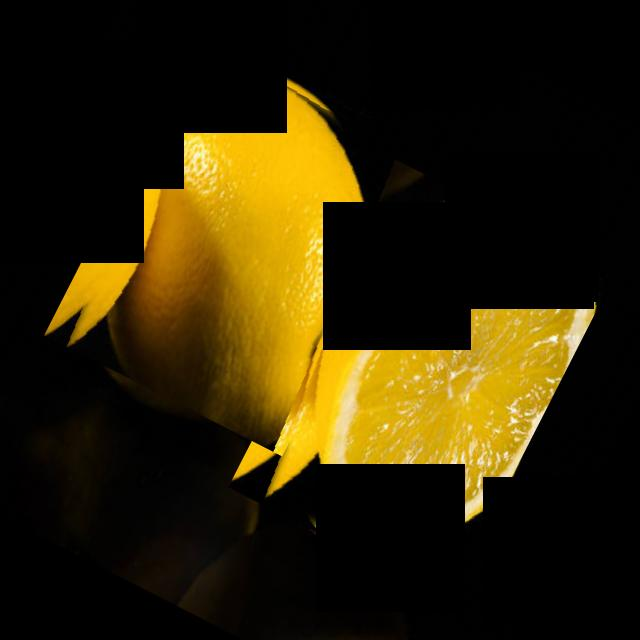lemon: (228, 160, 616, 600), (44, 32, 436, 456)
